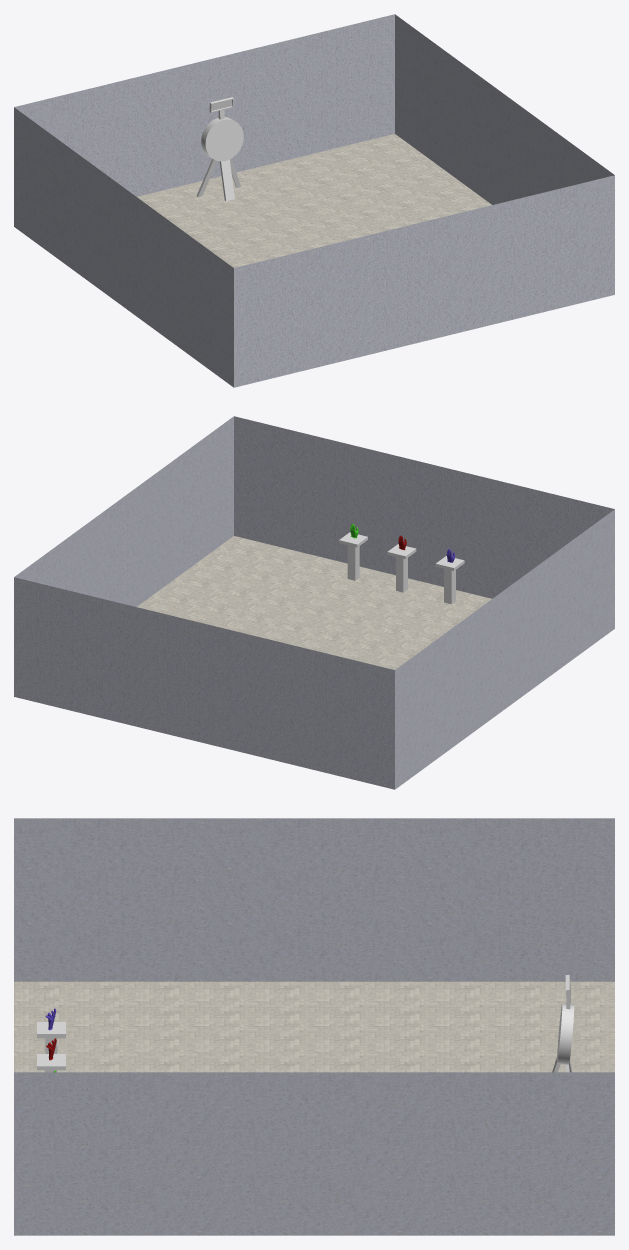
File: map.FBX
3 views of the same model, one above another, from view 1: azimuth 30°, elevation 25°; view 2: azimuth 150°, elevation 25°; view 3: azimuth 270°, elevation 25° (orthographic). The views are drawn at different scales.
Visible parts, largest first — view 1: Box005, Object007, Cylinder002, Object010; view 2: Box005, Object007, Box006, Box007, Box008; view 3: Box005, Object007, Cylinder002, Box008.
Boxes of the visible parts, x1,y1,x2,y2 form: Box005: (14,14,614,387); Object007: (137,134,491,267); Cylinder002: (196,97,240,201); Object010: (205,119,243,161); Box005: (14,416,614,789); Object007: (137,536,491,669); Box006: (339,532,367,580); Box007: (387,544,416,592); Box008: (435,556,464,604); Box005: (14,818,614,1235); Object007: (14,981,614,1072); Cylinder002: (552,975,574,1072); Box008: (37,1022,65,1053).
Size of the model in its own units: 1000 by 301 by 1000.
